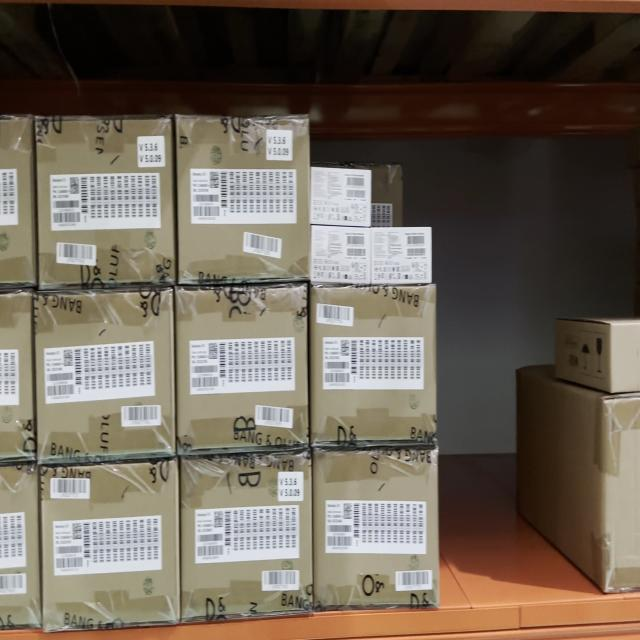box: (40, 119, 173, 287), (177, 118, 308, 283), (38, 294, 172, 455), (42, 468, 178, 622), (179, 290, 310, 447), (182, 460, 310, 613), (315, 450, 438, 606), (315, 288, 435, 441), (313, 170, 370, 224), (314, 226, 369, 279), (376, 229, 431, 279)
